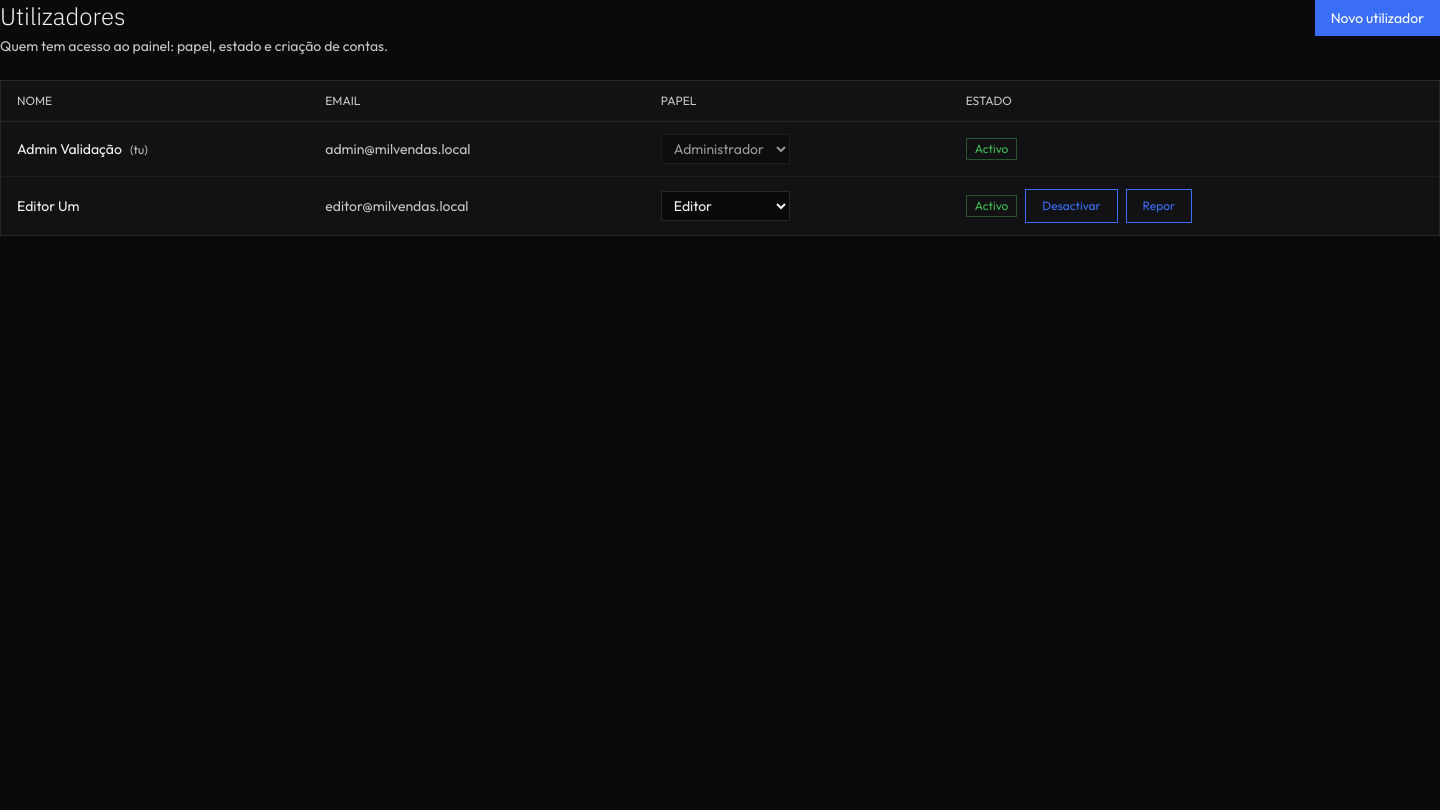
Test: UsersPage › email já registado (409) na criação mostra toast e mantém o modal aberto
Expected: the text "Editor Um" is shown, [1,176,309,235]
Click the button "Novo utilizador".
click(1377, 18)  # box [1315,0,1439,36]
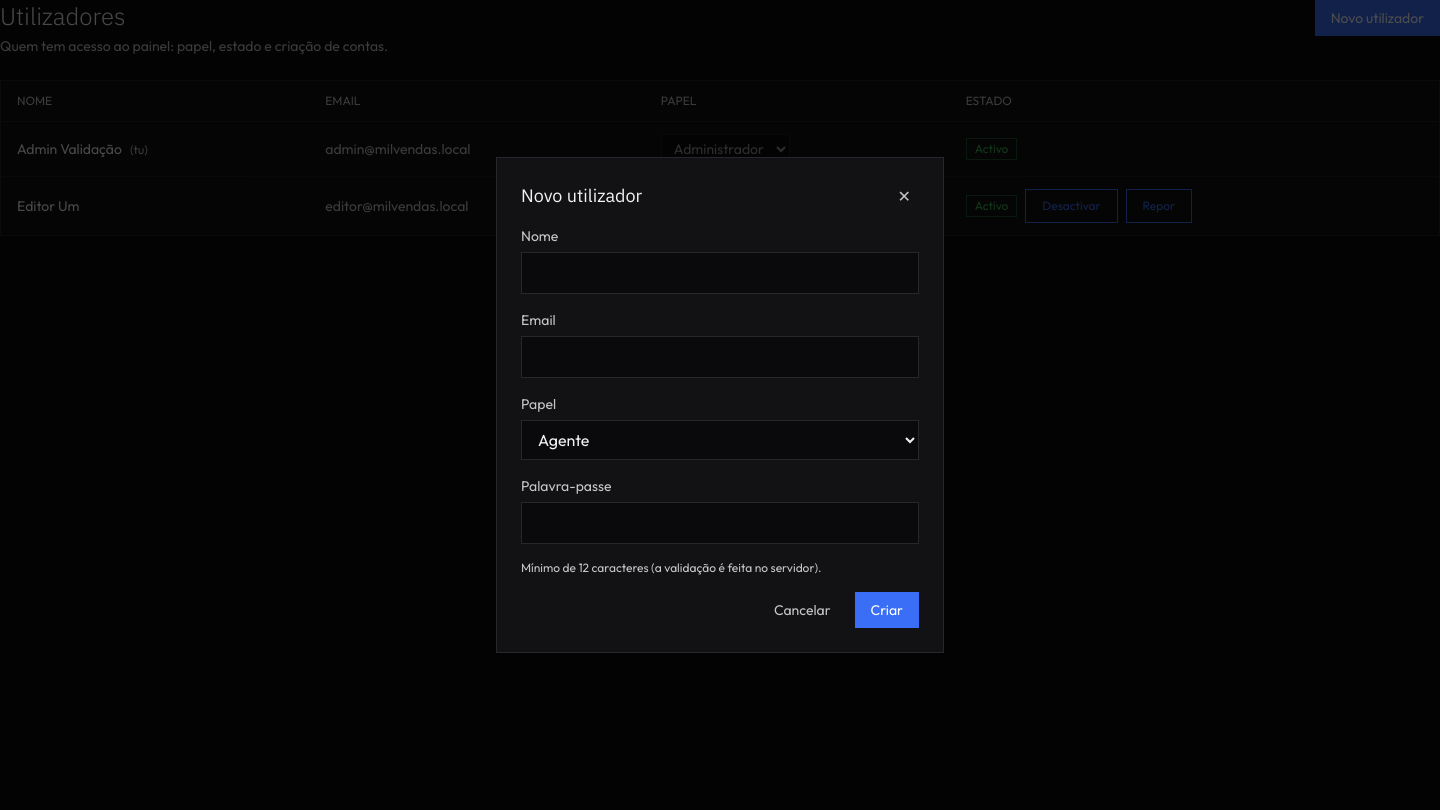
Type "Repetida" into the field labelled "Nome".
click(720, 273); type("Repetida")  # box [521,252,919,294]
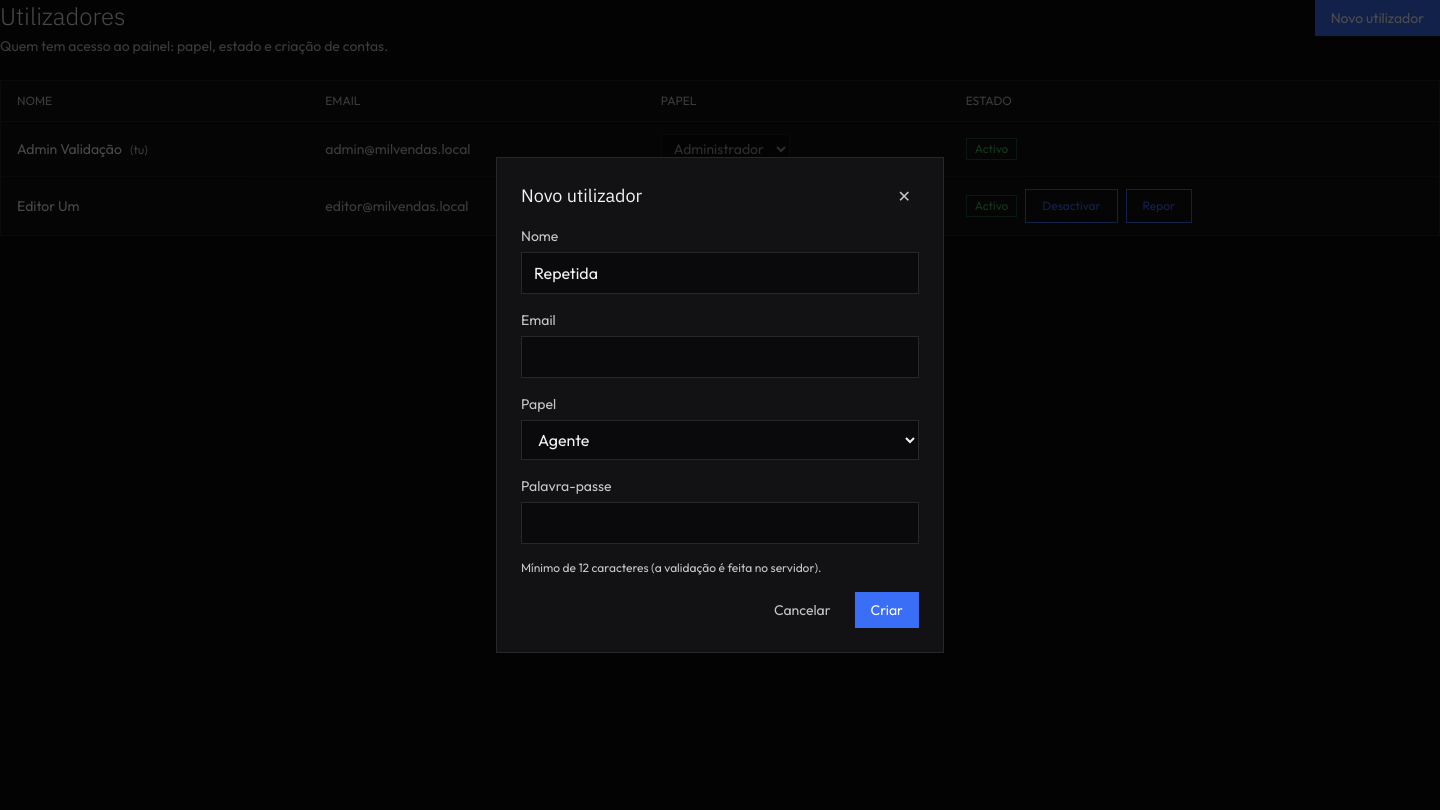
Type "editor@milvendas.local" into the field labelled "Email".
click(720, 357); type("editor@milvendas.local")  # box [521,336,919,378]
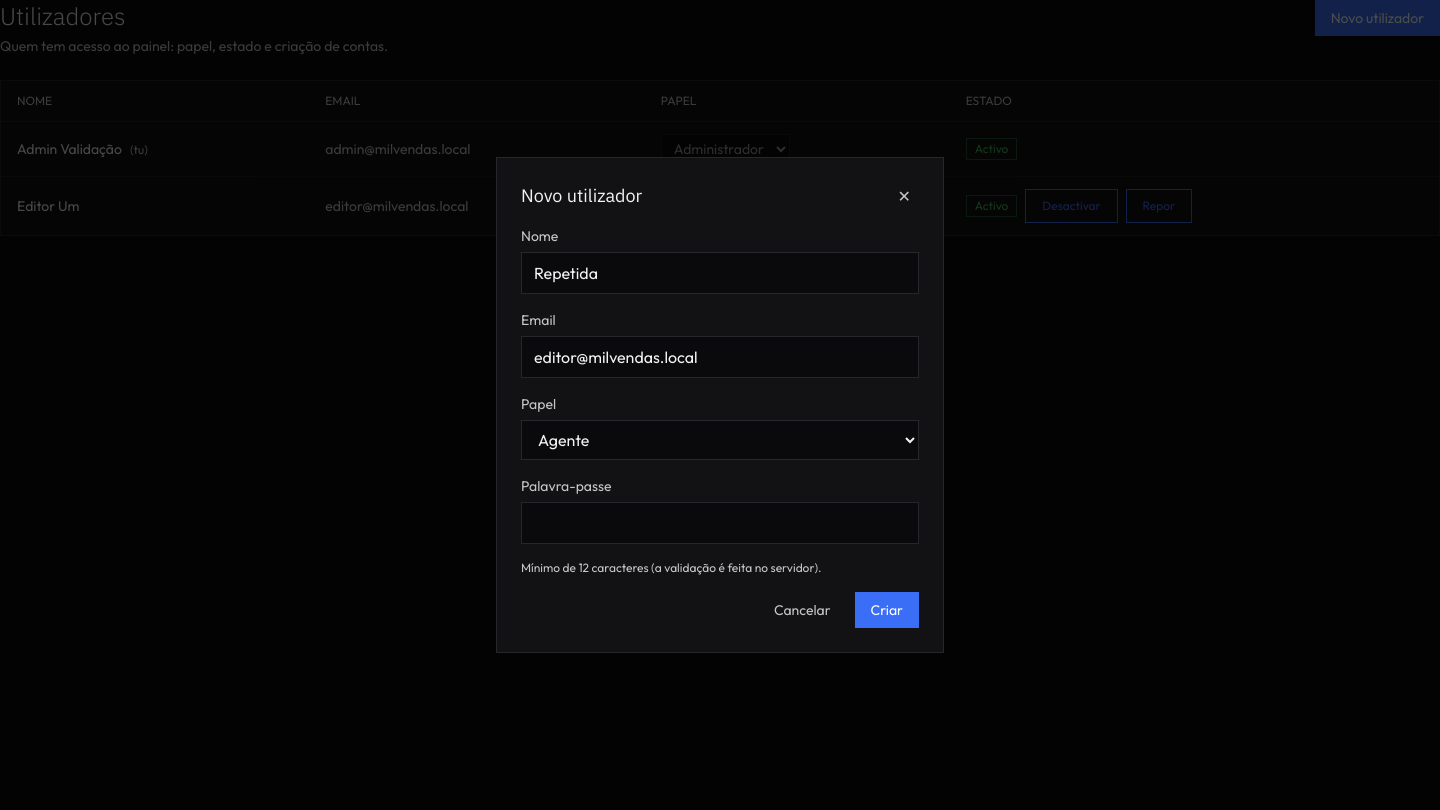
Select "Agente" in the dropdown labelled "Papel" at (720,440), box [521,420,919,460]
Type "senha-super-longa" into the password field labelled "Palavra-passe".
click(720, 523); type("senha-super-longa")  # box [521,502,919,544]
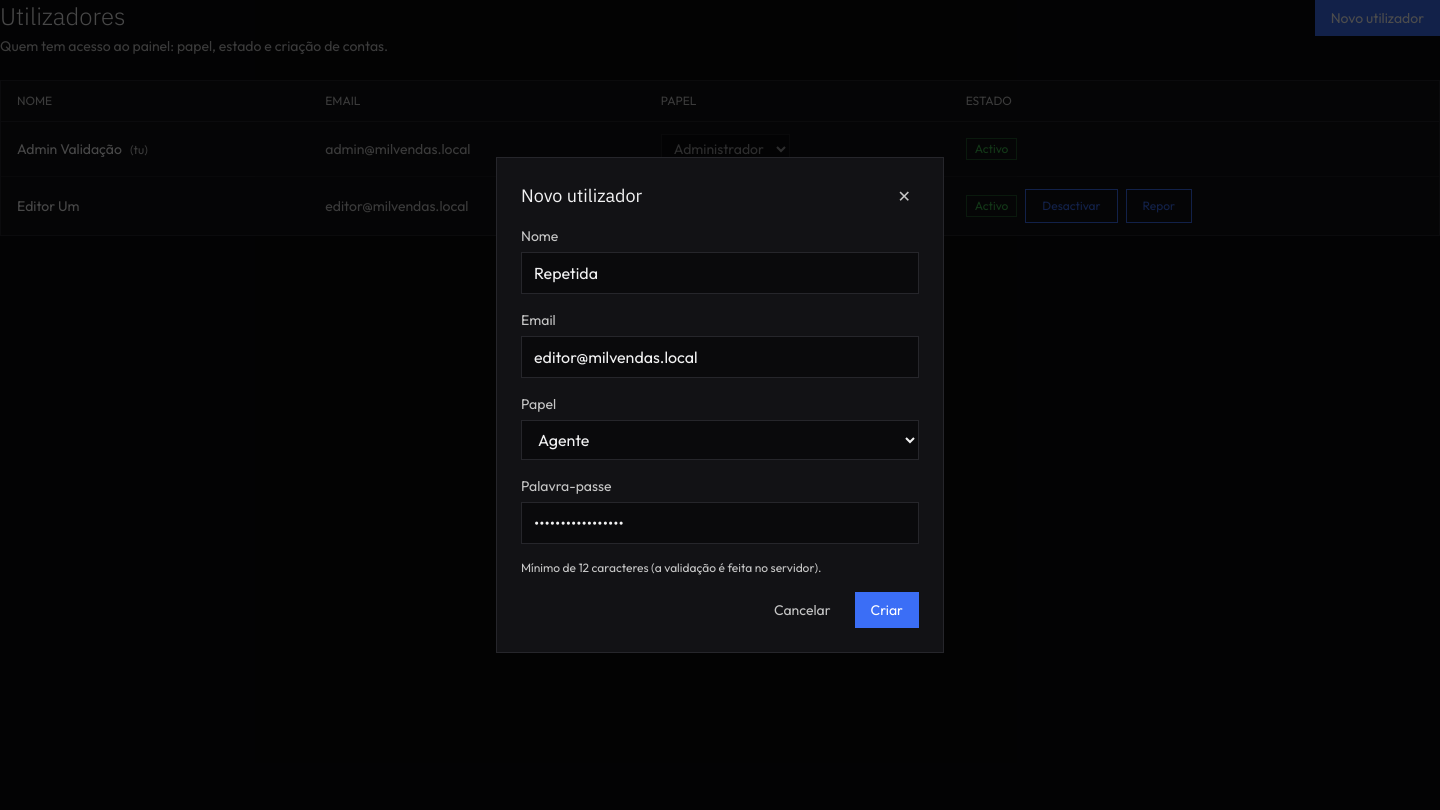
Click the button "Criar".
click(887, 610)  # box [855,592,919,628]
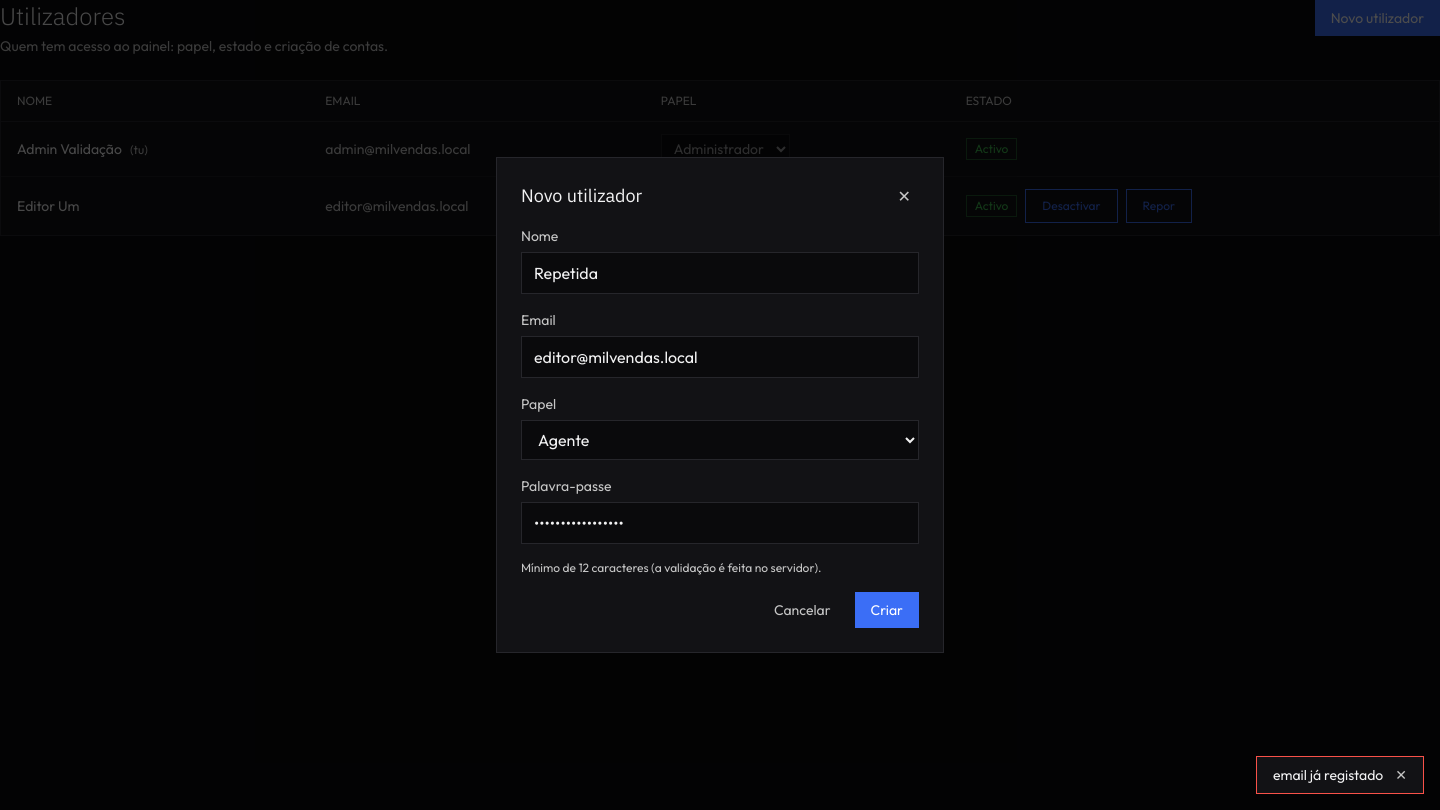
Expected: the dialog "Novo utilizador" is shown, [496,157,944,653]
Expected: the message shows "email já registado", [1273,766,1383,784]
